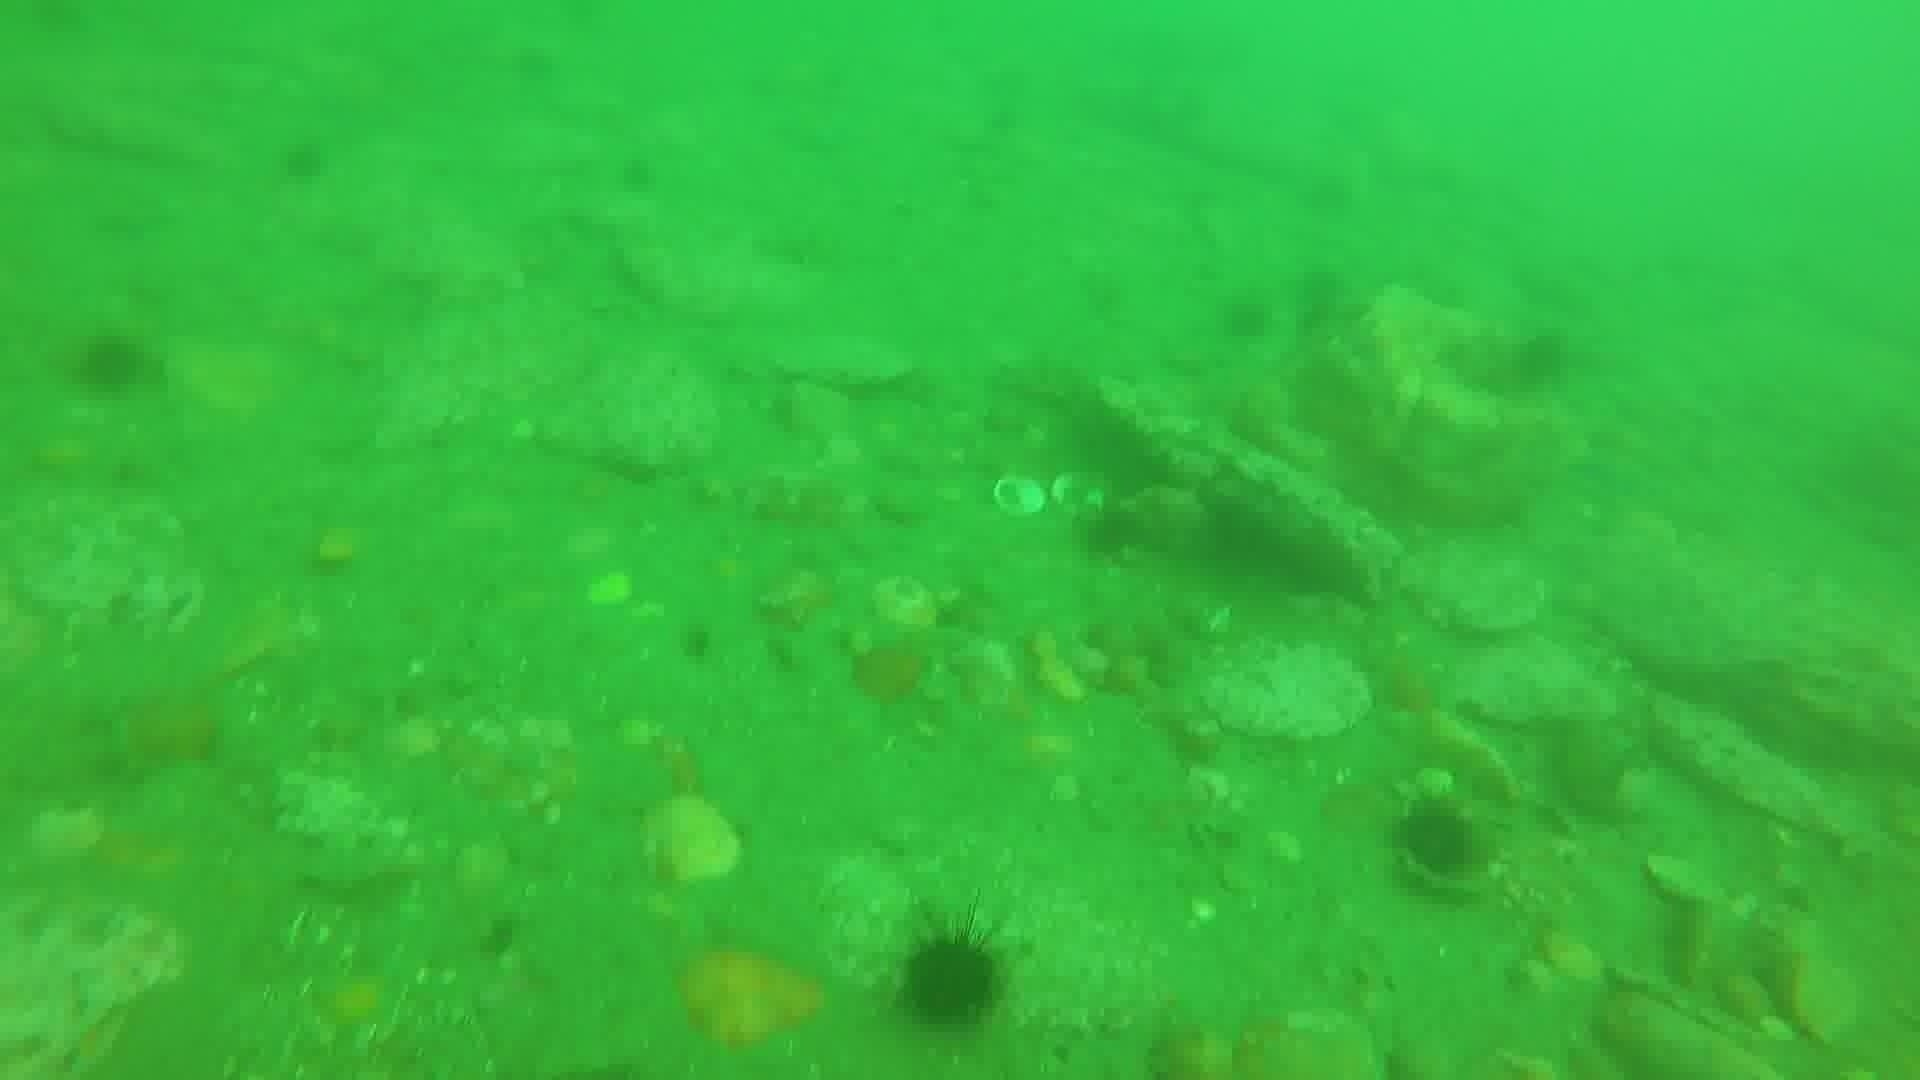echinus: (893, 922, 1010, 1034), (1389, 796, 1484, 886), (69, 328, 152, 400), (1499, 326, 1575, 400), (1073, 501, 1149, 567), (1215, 291, 1276, 347), (274, 133, 334, 189)
starfish: (92, 679, 227, 786)
